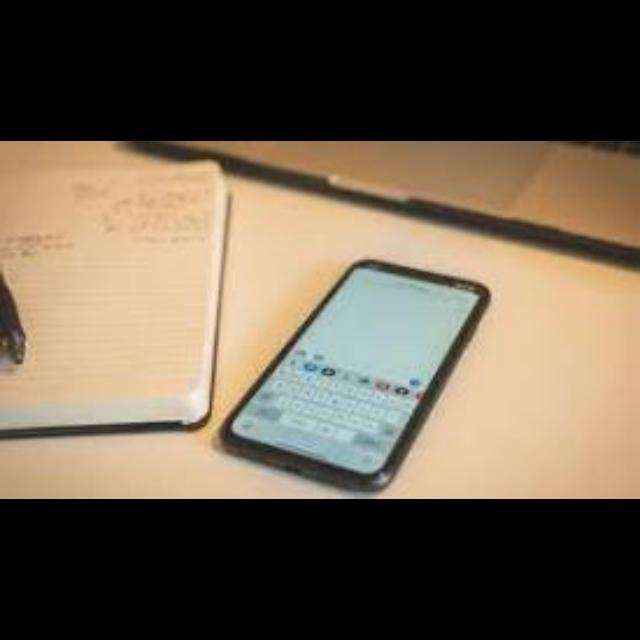Phone: (222, 260, 490, 492)
